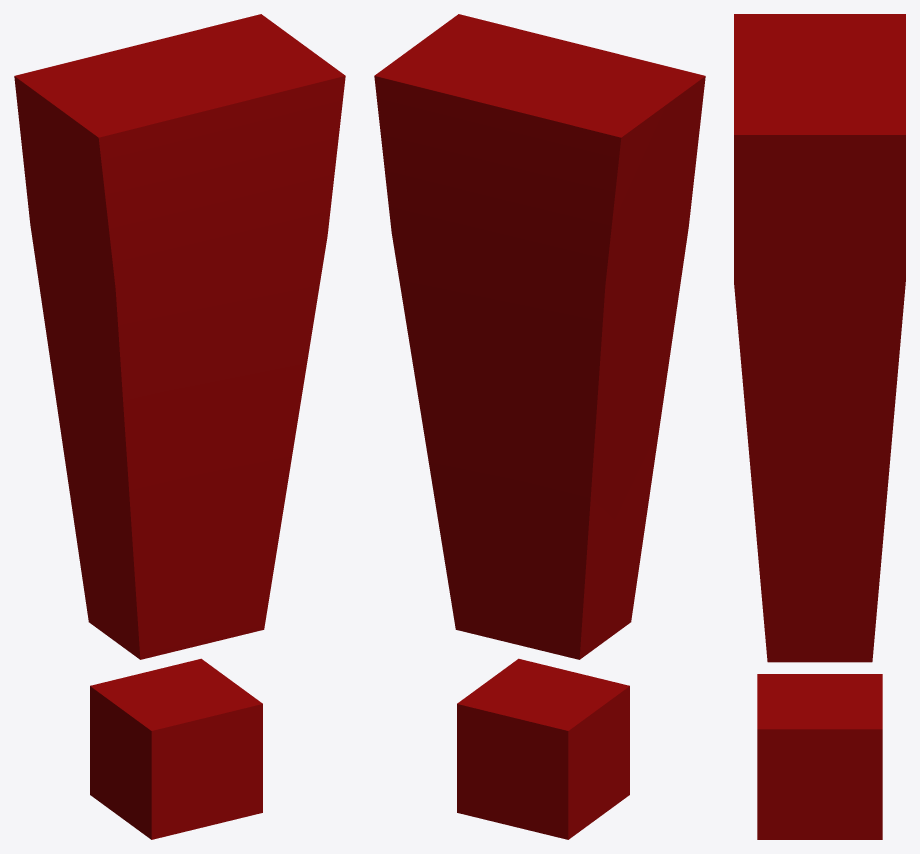
The model's file is red.fbx.
3 renders of one model, left to right at view 1: azimuth 30°, elevation 25°; view 2: azimuth 150°, elevation 25°; view 3: azimuth 270°, elevation 25°, orthographic.
Visible parts, largest first — view 1: pCube3; view 2: pCube3; view 3: pCube3.
Part boxes in pixels (bbox=[...]): pCube3: bbox=[14, 14, 345, 839]; pCube3: bbox=[374, 14, 705, 839]; pCube3: bbox=[734, 14, 905, 839].
Bounding box in the file's own units: 0.4062 × 1.14 × 0.2404.
